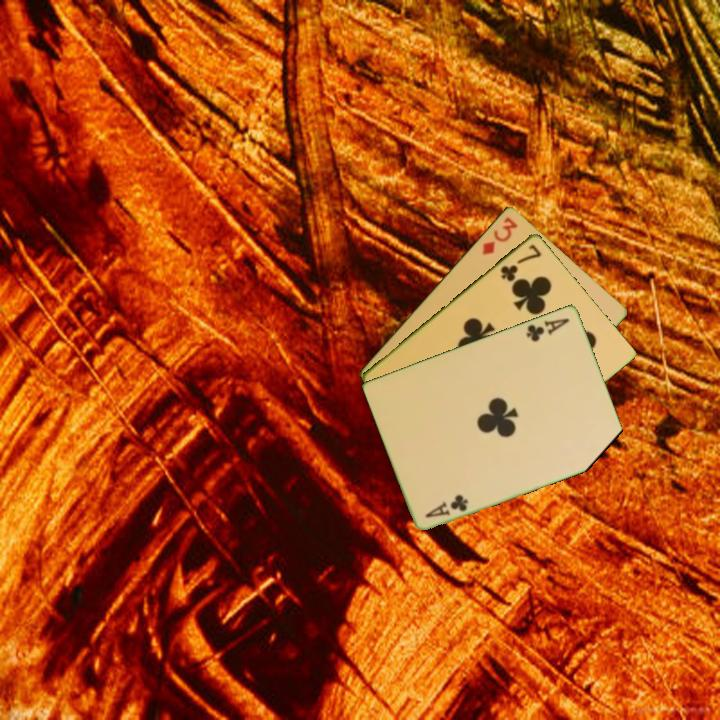3d: (478, 213, 521, 257)
7c: (497, 241, 544, 284)
Ac: (421, 490, 471, 520), (523, 314, 572, 344)
